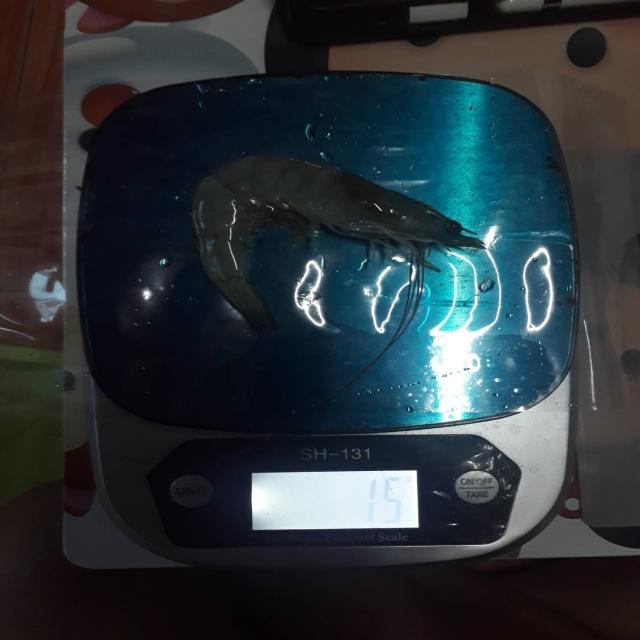1: (366, 477, 378, 526)
5: (381, 475, 403, 525)
screen: (249, 471, 420, 530)
